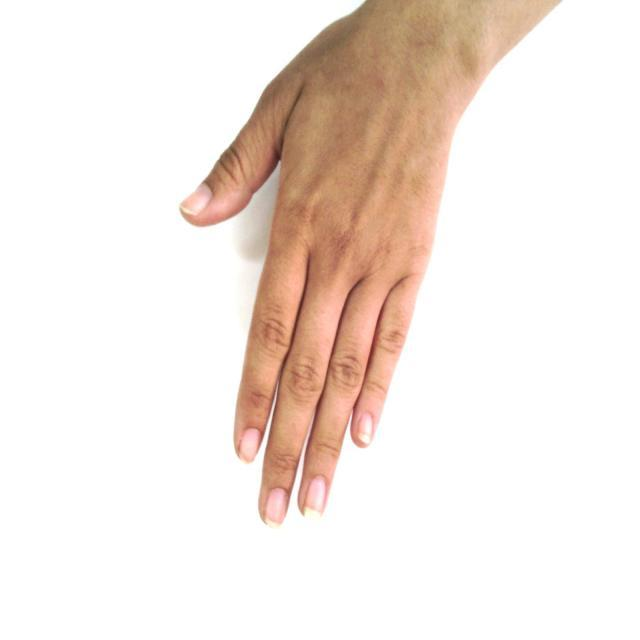Fingernail: (181, 184, 211, 215), (265, 488, 287, 526), (304, 477, 325, 516), (240, 429, 259, 460), (357, 412, 374, 444)
